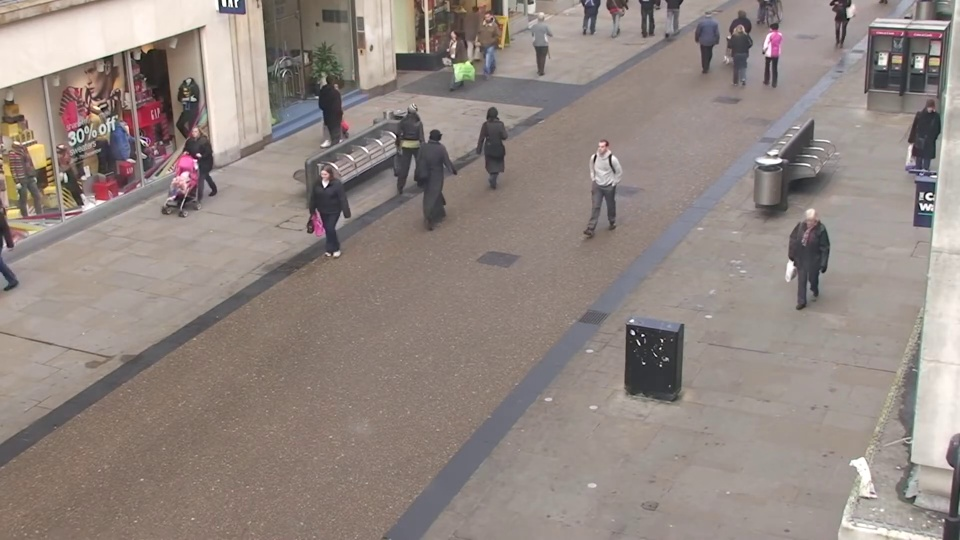pedestrian: (783, 205, 828, 326), (902, 101, 948, 197), (304, 165, 344, 273), (174, 123, 213, 218), (579, 137, 612, 240), (426, 117, 459, 214), (480, 100, 512, 192), (402, 93, 434, 182), (305, 78, 336, 162), (323, 66, 353, 147), (757, 19, 785, 89), (723, 21, 749, 92), (439, 28, 465, 98), (726, 5, 751, 72), (696, 4, 720, 70), (531, 9, 554, 75), (475, 10, 498, 76), (469, 2, 492, 66)
